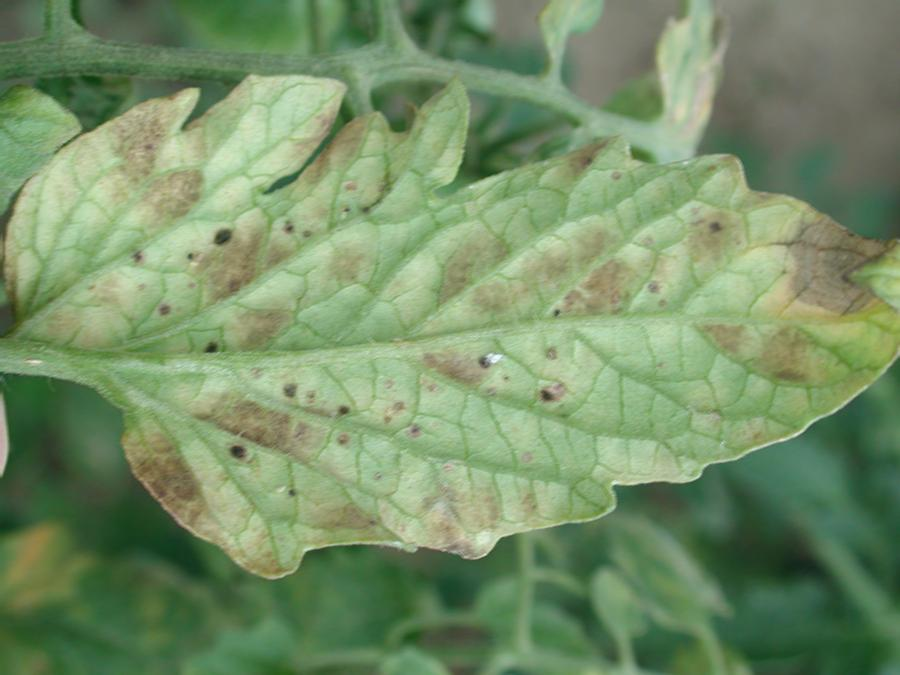Tomato mold leaf: (6, 35, 900, 604)
